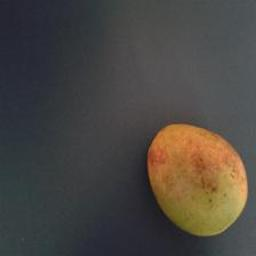Mango Semifresh: (132, 112, 256, 240)
